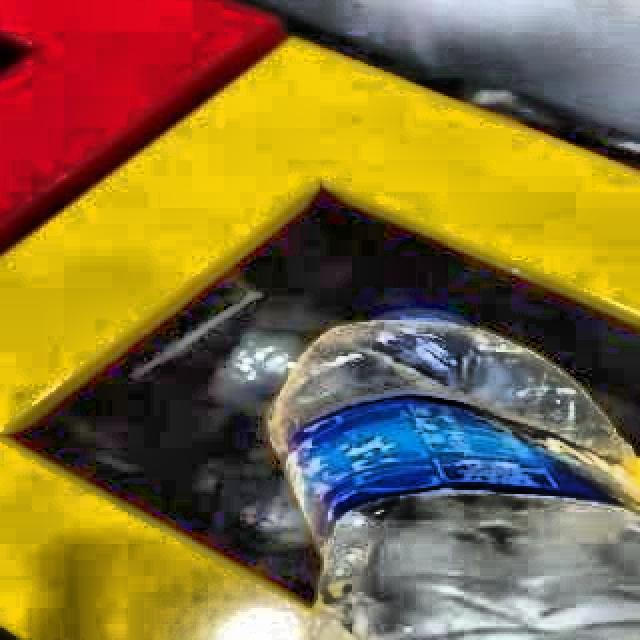plastic: (267, 318, 640, 640)
